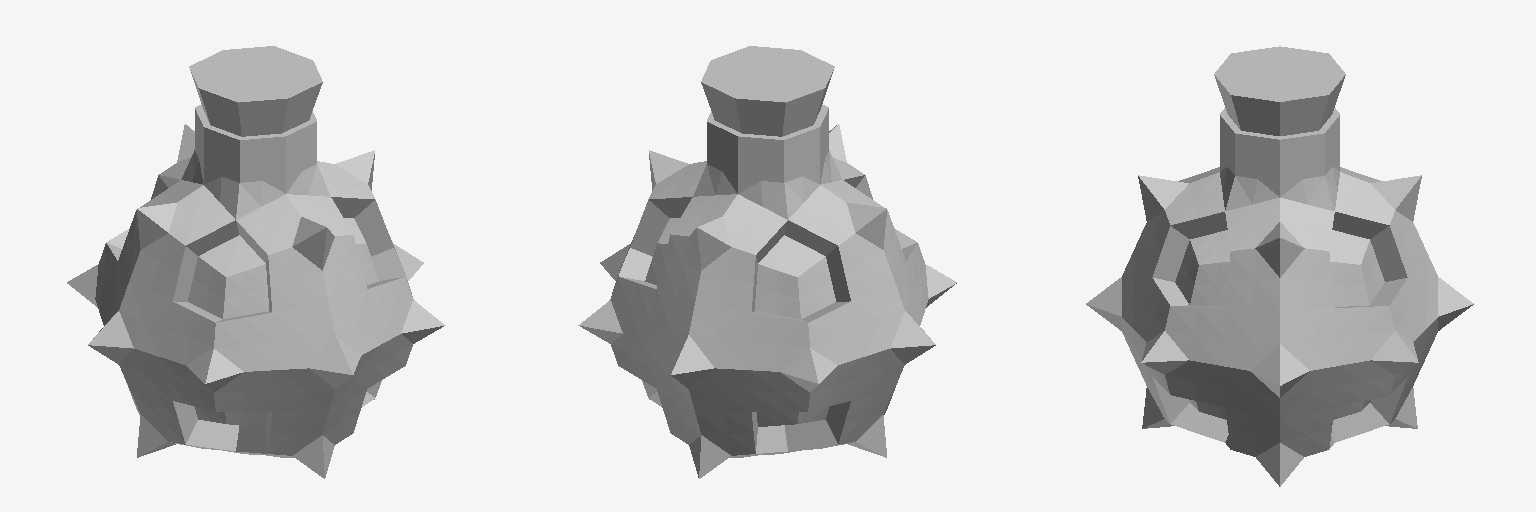
File: bomb.obj
The picture shows the model from 3 angles: view 1: azimuth 30°, elevation 25°; view 2: azimuth 150°, elevation 25°; view 3: azimuth 270°, elevation 25°; orthographic projection.
Parts seen in each view (by area): view 1: Cube; view 2: Cube; view 3: Cube.
Boxes of the visible parts, x1=… form: Cube: x1=67, y1=46, x2=445, y2=478; Cube: x1=578, y1=46, x2=956, y2=478; Cube: x1=1086, y1=46, x2=1473, y2=486.
Size of the model in its own units: 1.83 by 1.88 by 1.83.